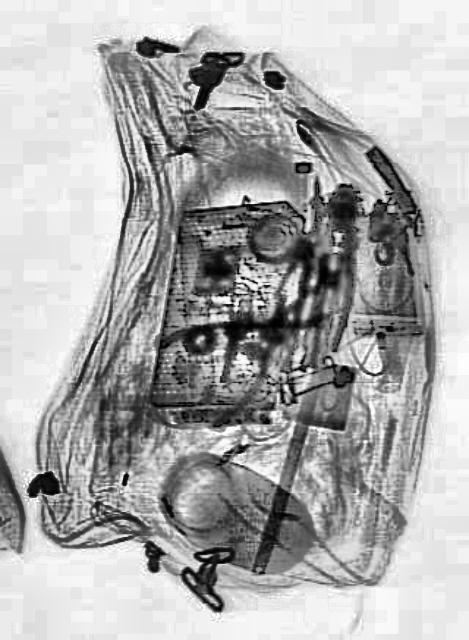Pliers: (155, 264, 319, 441)
